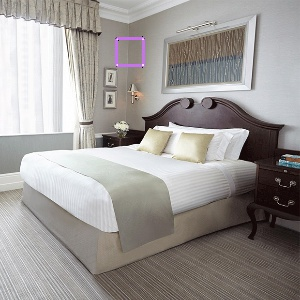square: (112, 35, 148, 70)
